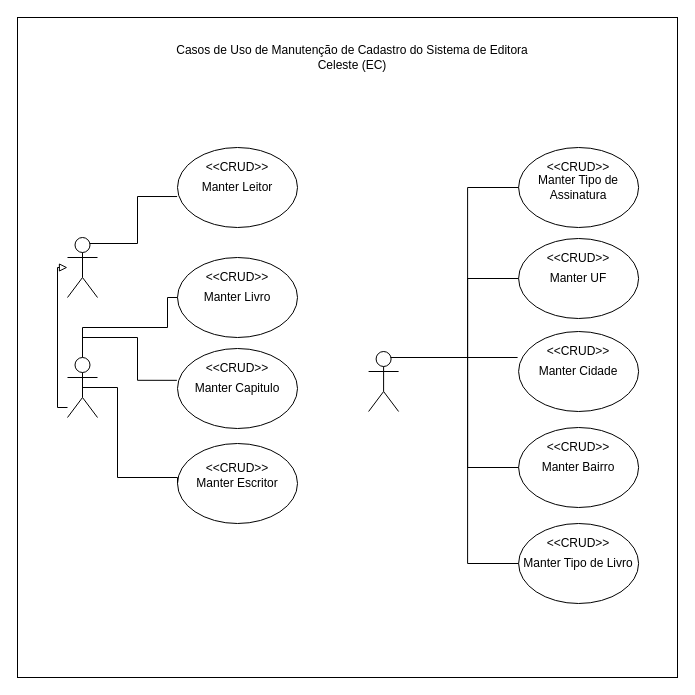
Image size: 695x695. Some labels were removed from this diagram. The shapes that lost their labels are listed below. From the top down, each one's centre as x and y in pixels, then its label:
At [82,267]: "Leitor".
At [82,387]: "Escritor".
At [383,381]: "Administrador".
